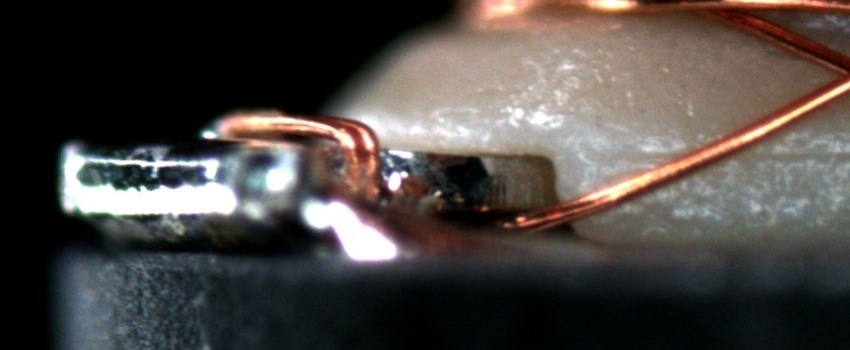CL: (807, 40, 850, 107)
DL: (629, 124, 849, 177)
TE: (207, 110, 385, 196)
